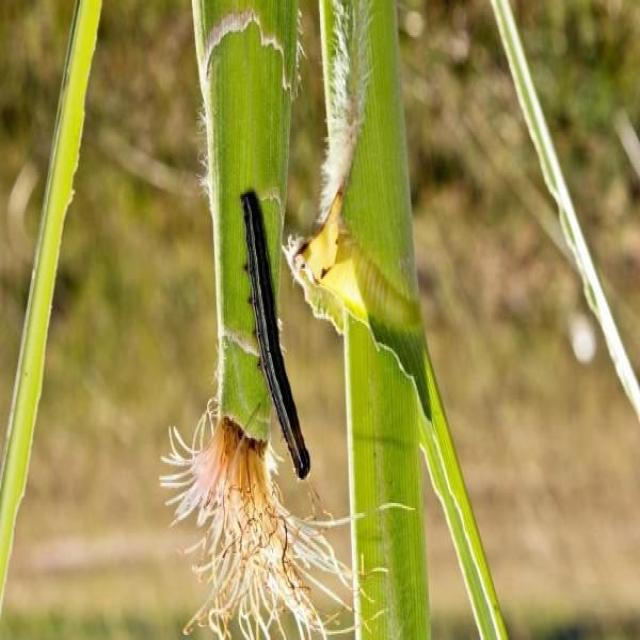army worm: (236, 181, 312, 483)
